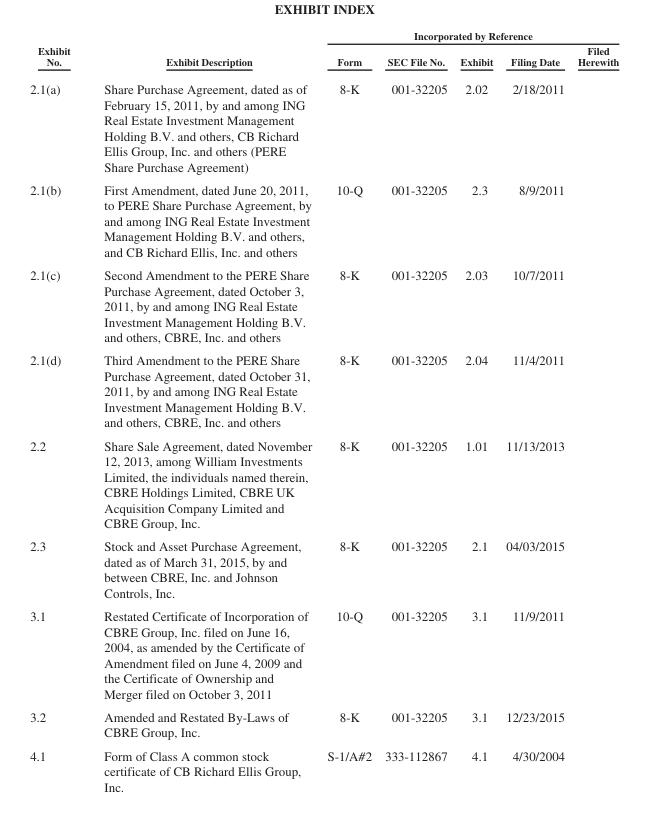table: (29, 29, 618, 793)
table column: (86, 29, 318, 793), (377, 29, 453, 793), (498, 29, 570, 793), (318, 29, 377, 793), (29, 29, 86, 793), (570, 29, 618, 793), (453, 29, 498, 793)
table column header: (29, 29, 618, 74)
table row: (29, 74, 618, 177), (29, 433, 618, 534), (29, 604, 618, 704), (29, 177, 618, 263), (29, 263, 618, 348), (29, 348, 618, 433), (29, 534, 618, 604), (29, 743, 618, 793), (29, 704, 618, 743), (29, 42, 618, 74), (29, 29, 618, 42)
table spanning cell: (86, 29, 318, 74), (318, 29, 618, 42), (29, 29, 86, 74)
